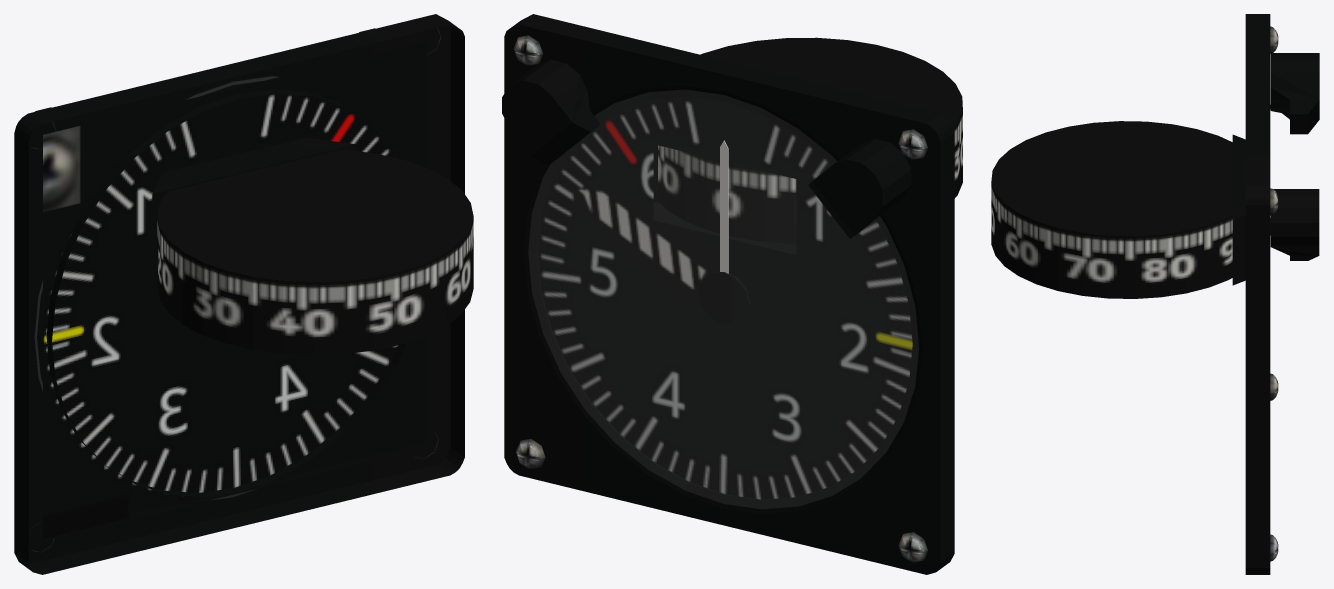
The model's file is asi.obj.
3 renders of one model, left to right at view 1: azimuth 30°, elevation 25°; view 2: azimuth 150°, elevation 25°; view 3: azimuth 270°, elevation 25°, orthographic. The views are drawn at different scales.
Parts seen in each view (by area): view 1: face, drum, fond; view 2: vitre, face, fond, drum, needle; view 3: drum, fond, face.
Part boxes in pixels (x1=…): face: x1=43, y1=41, x2=427, y2=540; drum: x1=157, y1=149, x2=473, y2=355; fond: x1=14, y1=14, x2=464, y2=574; vitre: x1=529, y1=90, x2=918, y2=508; face: x1=538, y1=96, x2=912, y2=499; fond: x1=502, y1=14, x2=954, y2=574; drum: x1=658, y1=37, x2=962, y2=244; needle: x1=720, y1=140, x2=728, y2=273; drum: x1=991, y1=121, x2=1232, y2=298; fond: x1=1245, y1=14, x2=1319, y2=574; face: x1=1232, y1=134, x2=1245, y2=285.
Bounding box in the file's own units: 0.0897 × 0.0886 × 0.0678.
Materials: 2 (1 with a texture image).
